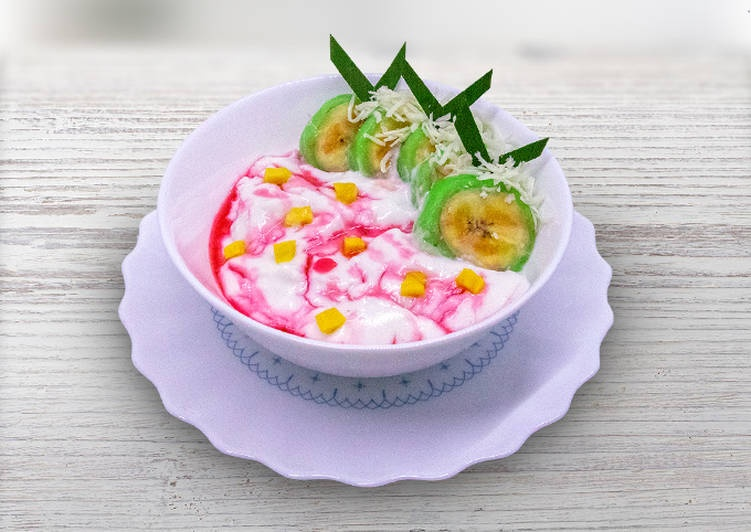pisang_ijo: (411, 174, 549, 281)
